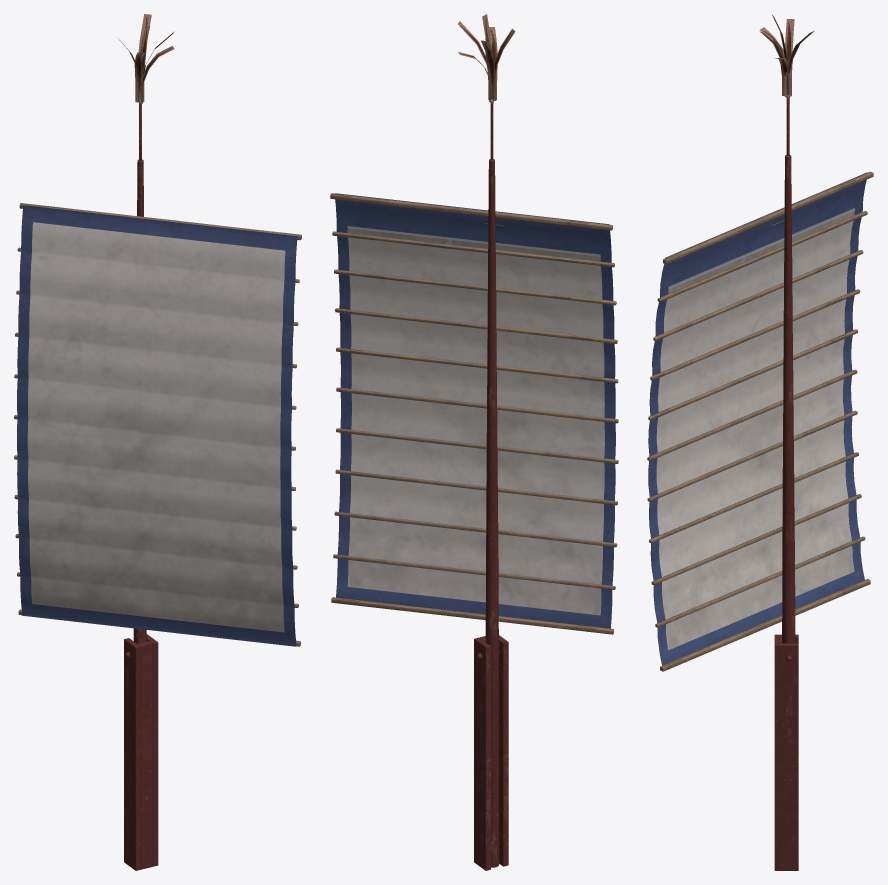
File: SM_Mast01a.fbx
3 renders of one model, left to right at view 1: azimuth 30°, elevation 25°; view 2: azimuth 210°, elevation 25°; view 3: azimuth 270°, elevation 25°, orthographic.
Parts seen in each view (by area): view 1: SM_Mast01a; view 2: SM_Mast01a; view 3: SM_Mast01a.
Part boxes in pixels (box(x1,y1,x2,y2)): SM_Mast01a: box(14, 14, 301, 870); SM_Mast01a: box(330, 14, 618, 870); SM_Mast01a: box(647, 15, 873, 870).
Bounding box in the file's own units: 569 × 2356 × 569.
